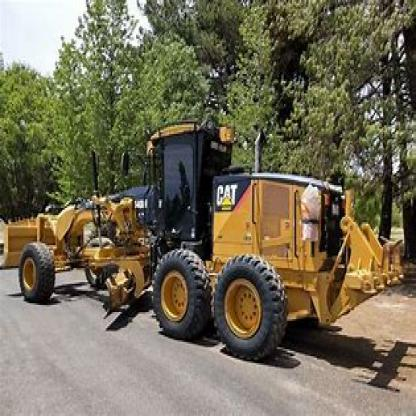bull_dozer/loader/grader: (19, 112, 414, 360)
